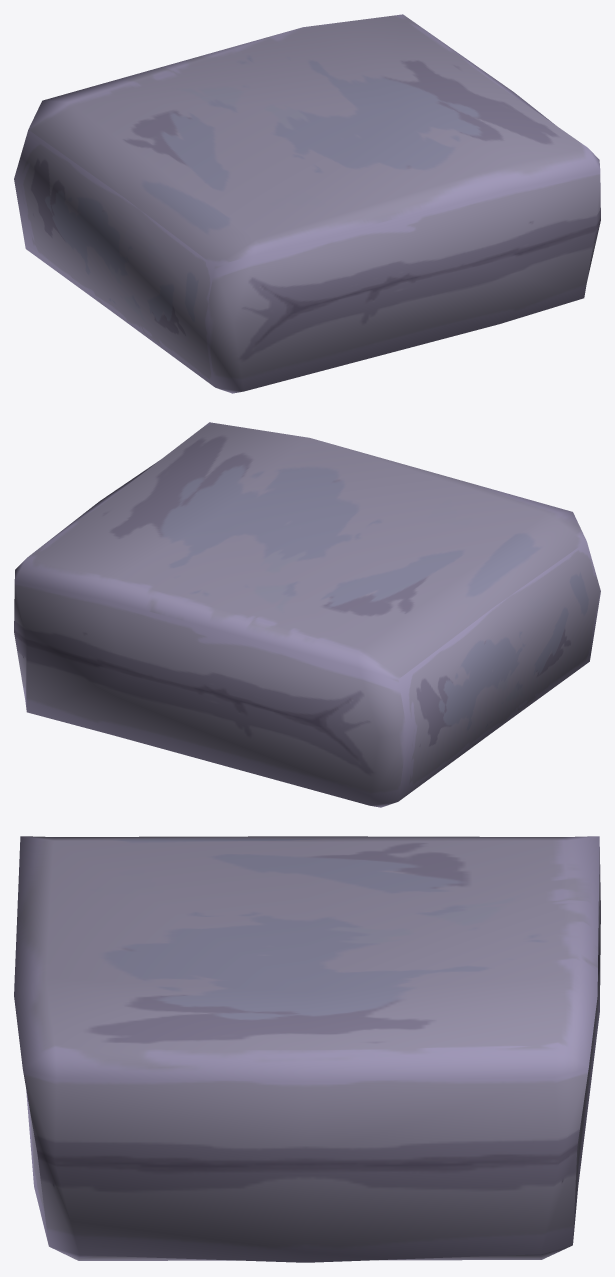
Rendered from SM_PROP_towel_interior_04.fbx.
The picture shows the model from 3 angles, top to bottom: view 1: azimuth 30°, elevation 25°; view 2: azimuth 150°, elevation 25°; view 3: azimuth 270°, elevation 25°; orthographic projection. The views are drawn at different scales.
Parts seen in each view (by area): view 1: SM_PROP_towel_interior_04; view 2: SM_PROP_towel_interior_04; view 3: SM_PROP_towel_interior_04.
Part boxes in pixels (x1,y1,x2,y2): SM_PROP_towel_interior_04: [14, 14, 600, 393]; SM_PROP_towel_interior_04: [14, 422, 600, 807]; SM_PROP_towel_interior_04: [14, 836, 600, 1262].
Bounding box in the file's own units: 31.04 × 11.94 × 28.39.
